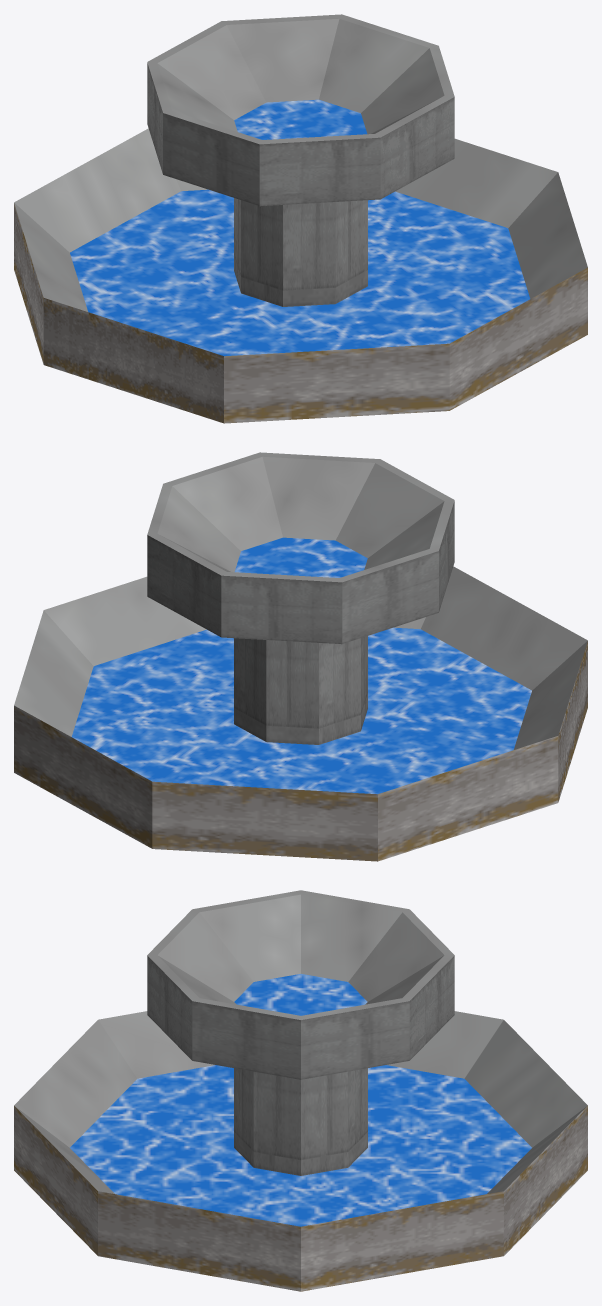
Rendered from Fuente.fbx.
3 views of the same model, one above another, from view 1: azimuth 30°, elevation 25°; view 2: azimuth 150°, elevation 25°; view 3: azimuth 270°, elevation 25° (orthographic). The views are drawn at different scales.
Visible parts, largest first — view 1: Cylinder; view 2: Cylinder; view 3: Cylinder.
Part boxes in pixels (x1,y1,x2,y2): Cylinder: [14, 14, 587, 423]; Cylinder: [14, 452, 587, 861]; Cylinder: [14, 890, 587, 1291].
Size of the model in its own units: 400 by 166 by 400.
Materials: 3 (3 with a texture image).
